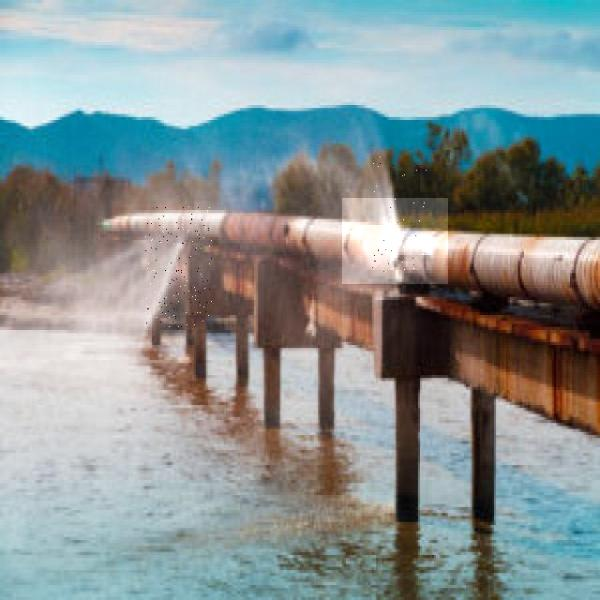water: (342, 198, 448, 284)
